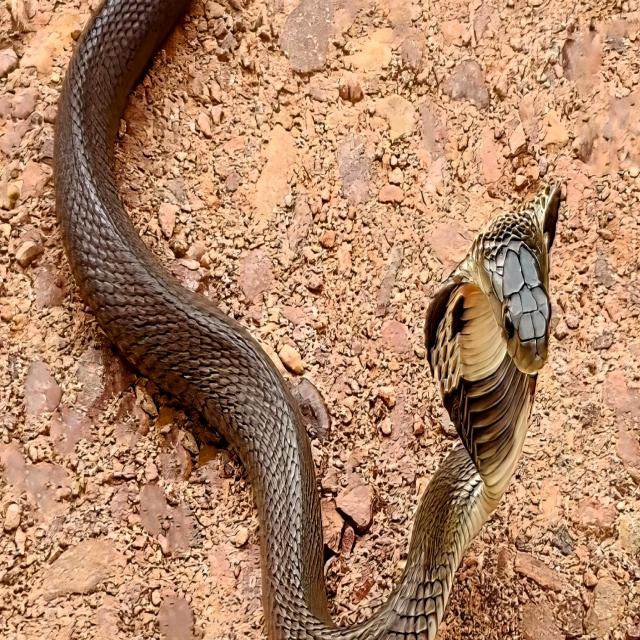Naja kaouthia: (55, 0, 559, 639)
